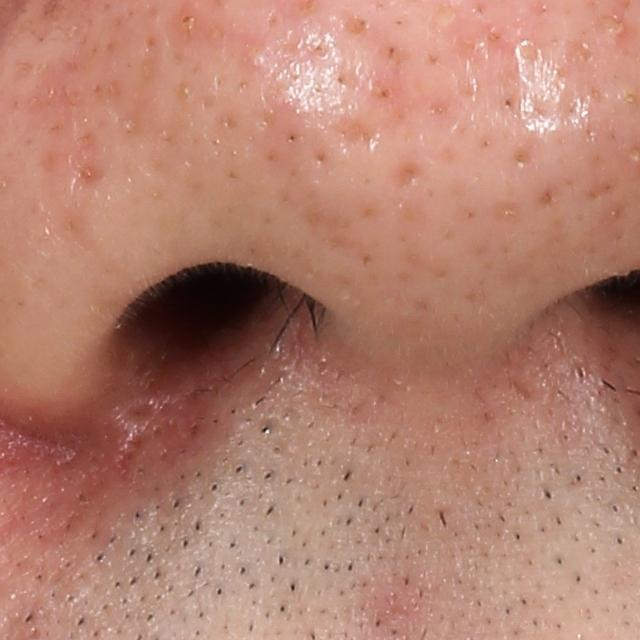atrophic_scar: (326, 111, 386, 160), (386, 158, 421, 202)
